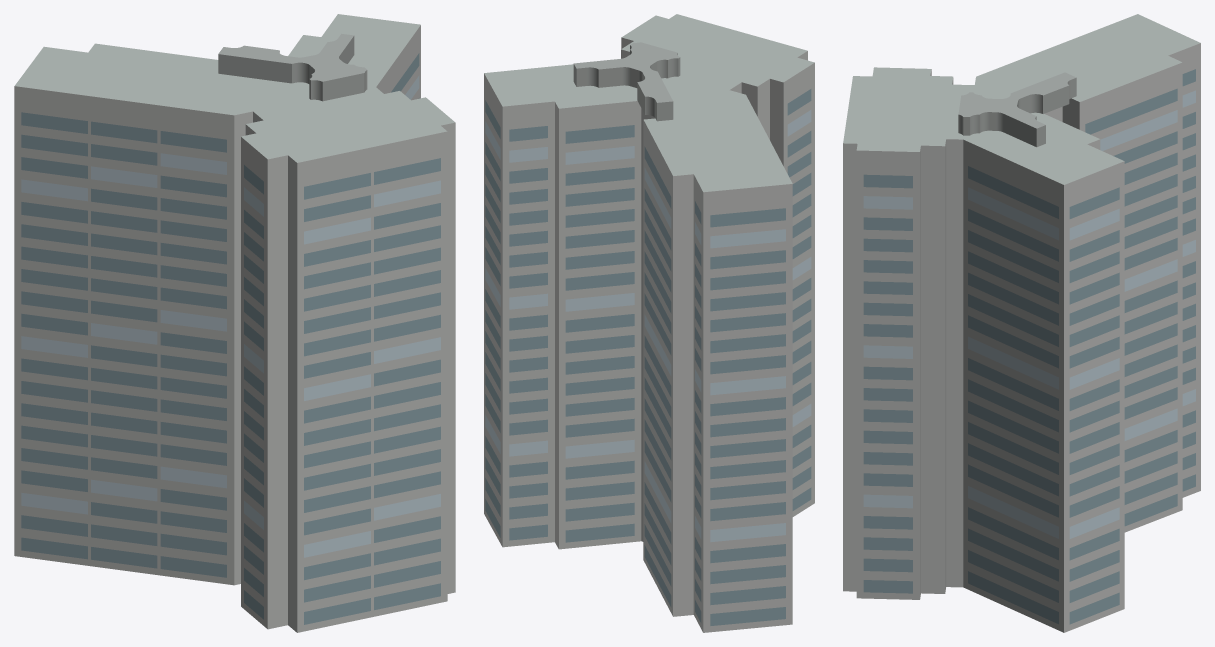
File: fallback-geumho-park-hills-108.glb
3 views of the same model, side by side, from view 1: azimuth 30°, elevation 25°; view 2: azimuth 150°, elevation 25°; view 3: azimuth 270°, elevation 25° (orthographic). The views are drawn at different scales.
Parts seen in each view (by area): view 1: fallback-geumho-park-hills-108; view 2: fallback-geumho-park-hills-108; view 3: fallback-geumho-park-hills-108.
Part boxes in pixels (box(x1,y1,x2,y2)): fallback-geumho-park-hills-108: box(14, 14, 455, 632); fallback-geumho-park-hills-108: box(484, 14, 814, 632); fallback-geumho-park-hills-108: box(843, 14, 1200, 632).
Bounding box in the file's own units: 47.2 × 60 × 41.71.
